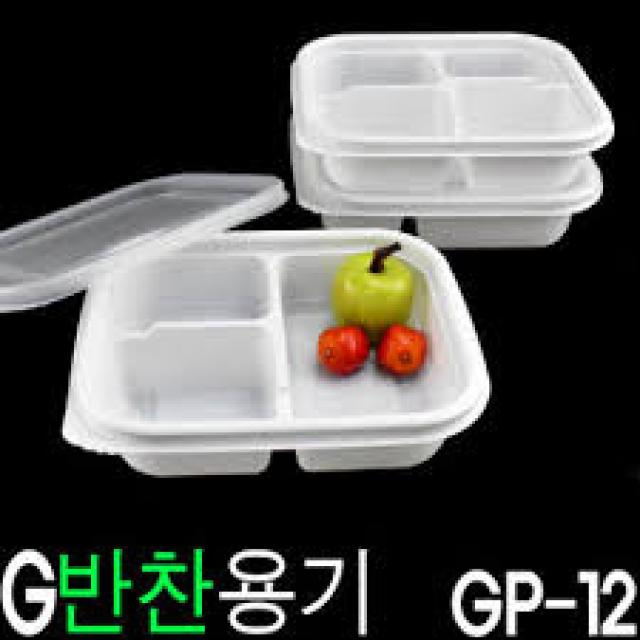disposable: (53, 202, 499, 503), (281, 18, 619, 204)
